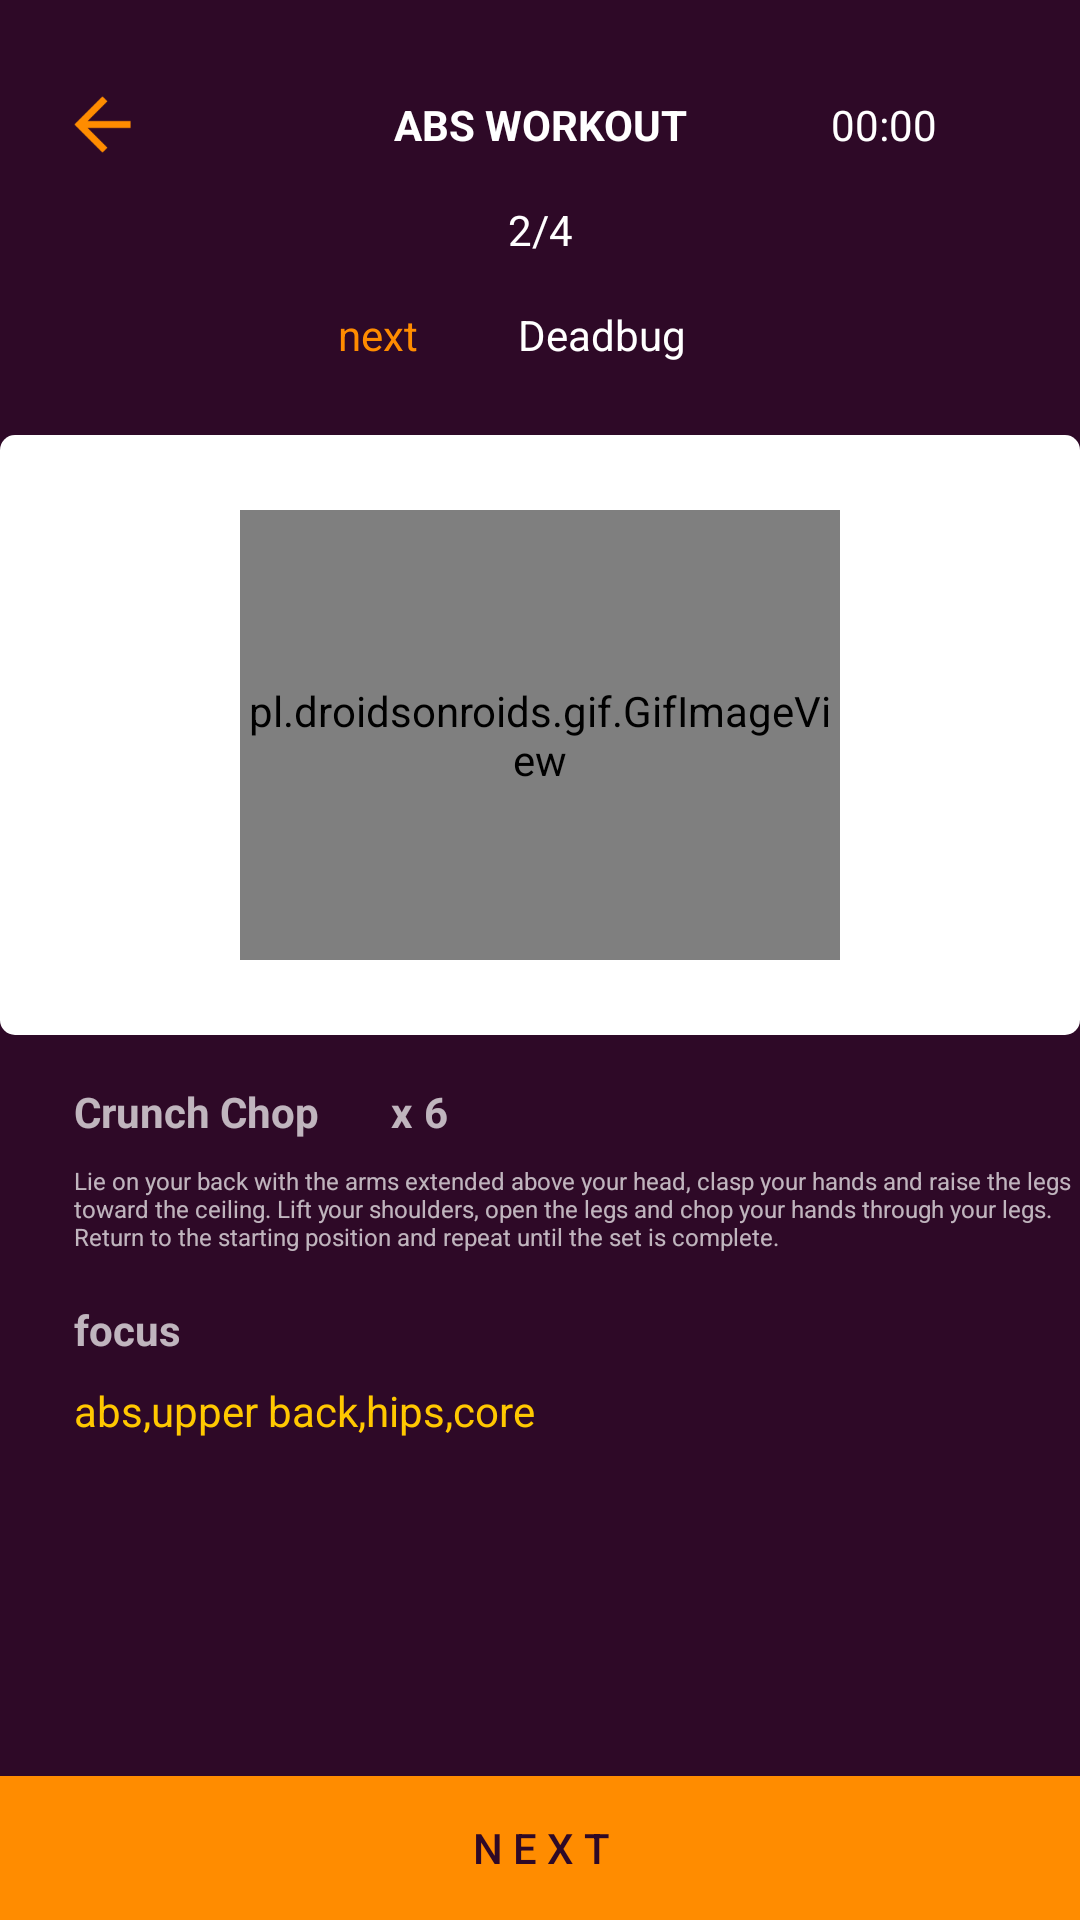

Icons on this 1080px×1920px Android screen, each with the point to tap as (x,y):
back: (102,124)
